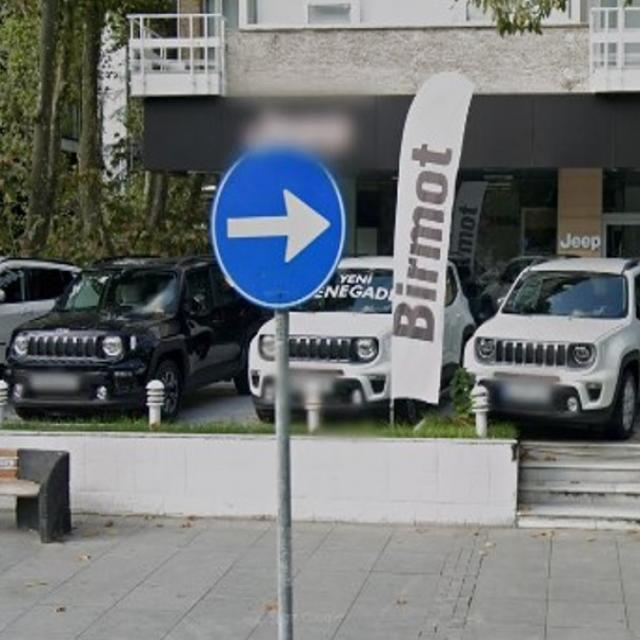Turn Right: (212, 146, 349, 307)
